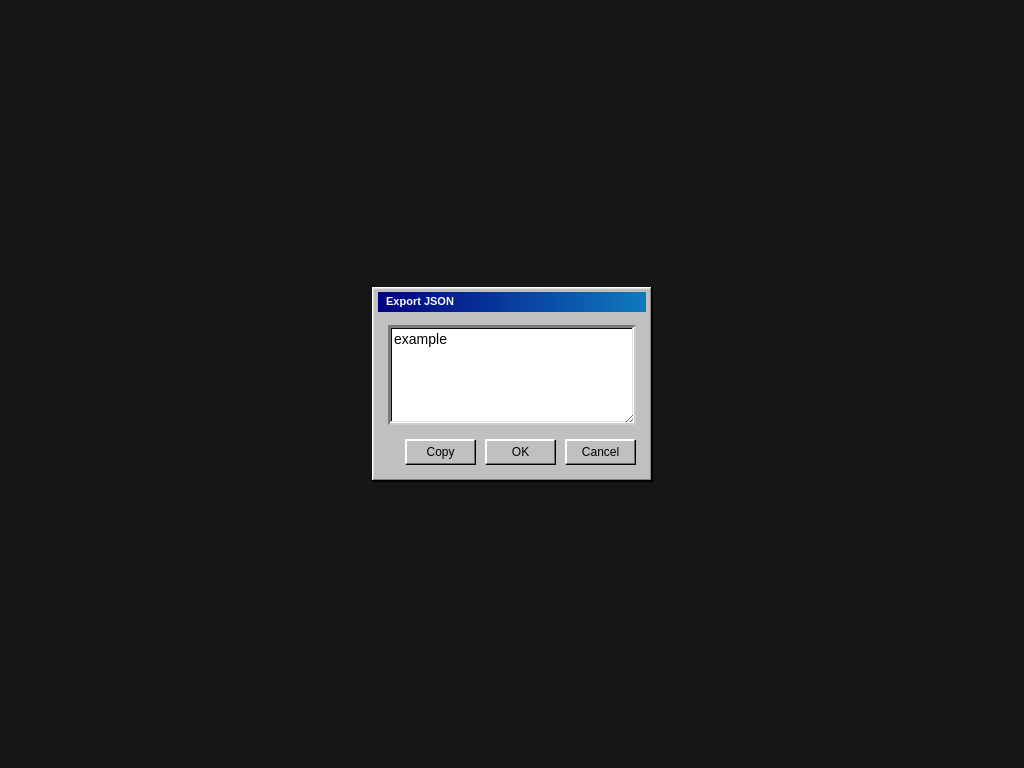
it: ModalInput and Exporter › reports clipboard denial and preserves a manual-copy fallback
The image size is (1024, 768).
Click the button "Copy".
click(440, 452)  # box [405,439,475,464]
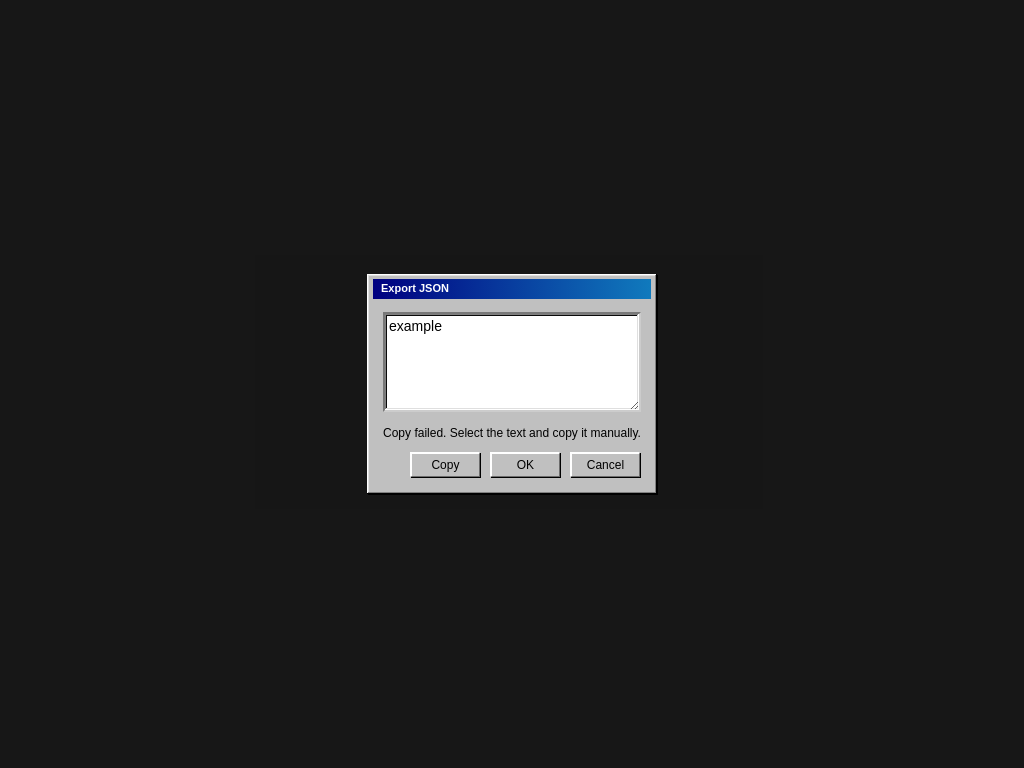
Expected: the text "Select the text and copy it manually" is shown, [383,426,641,440]
